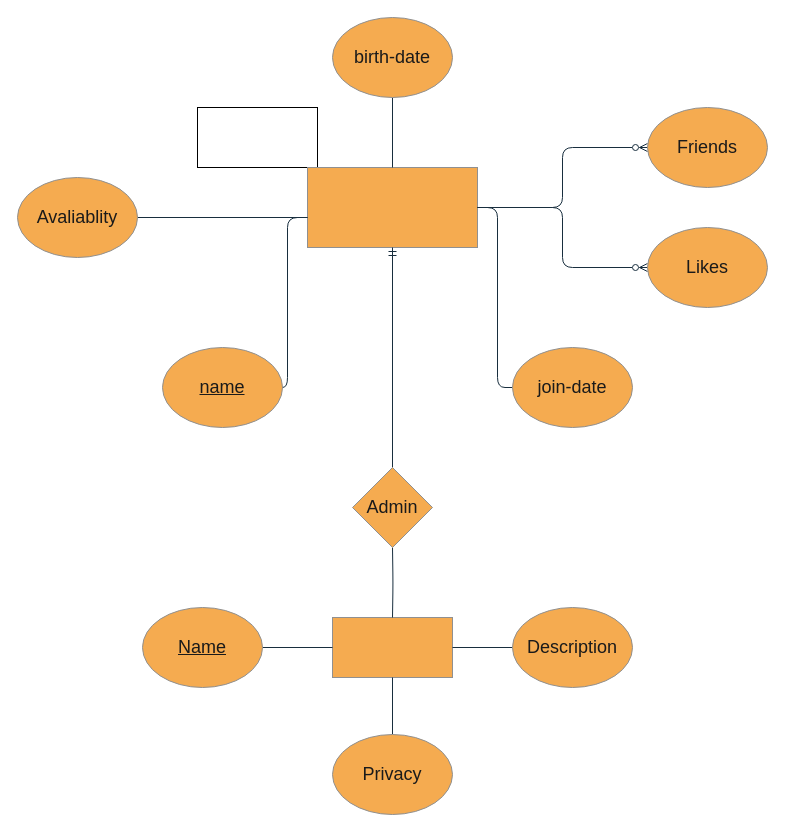
The diagram is 785 pixels wide and 832 high, and some of its shapes have lost their labels. Here are the shapes that lost their labels. From the top down, the box of each, then its label:
(306, 166, 478, 248): User
(332, 616, 452, 678): Group
